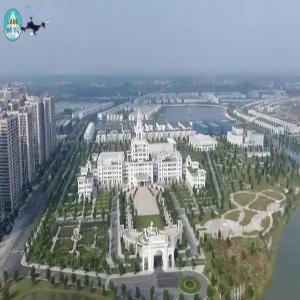drone: (13, 4, 51, 42)
